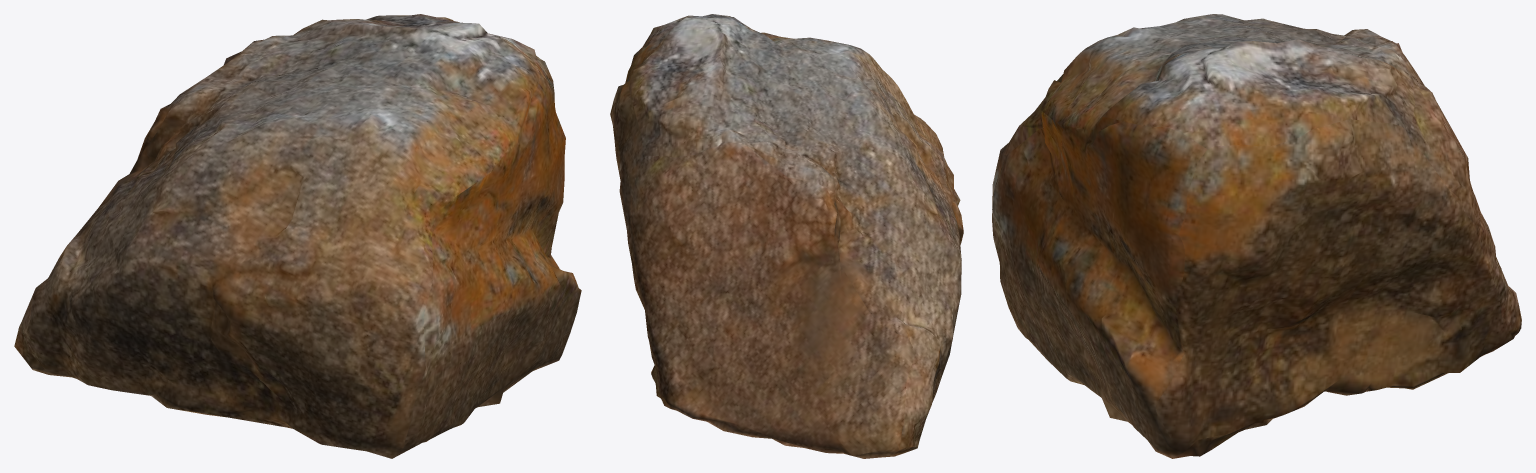
The model's file is namaqualand_boulder_04.glb.
The picture shows the model from 3 angles, left to right: view 1: azimuth 30°, elevation 25°; view 2: azimuth 150°, elevation 25°; view 3: azimuth 270°, elevation 25°; orthographic projection. The views are drawn at different scales.
Visible parts, largest first — view 1: boulder_04; view 2: boulder_04; view 3: boulder_04.
Boxes of the visible parts, x1,y1,x2,y2 form: boulder_04: (14, 14, 581, 458); boulder_04: (610, 14, 963, 458); boulder_04: (992, 14, 1521, 458).
Size of the model in its own units: 2.52 by 1.9 by 2.48.
Materials: 1 (1 with a texture image).
